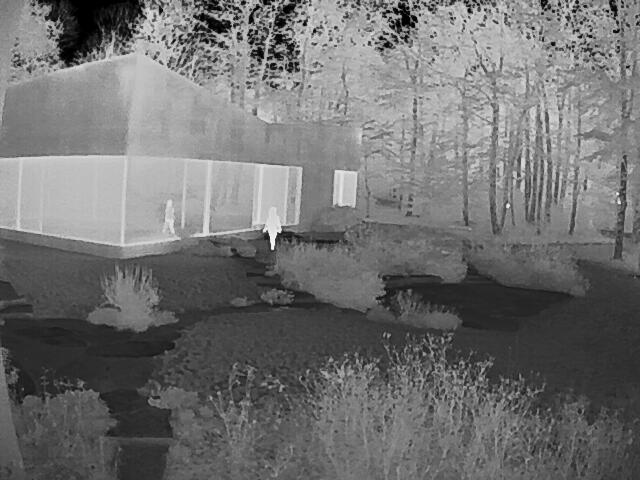person: (260, 204, 282, 250), (163, 199, 175, 235)
